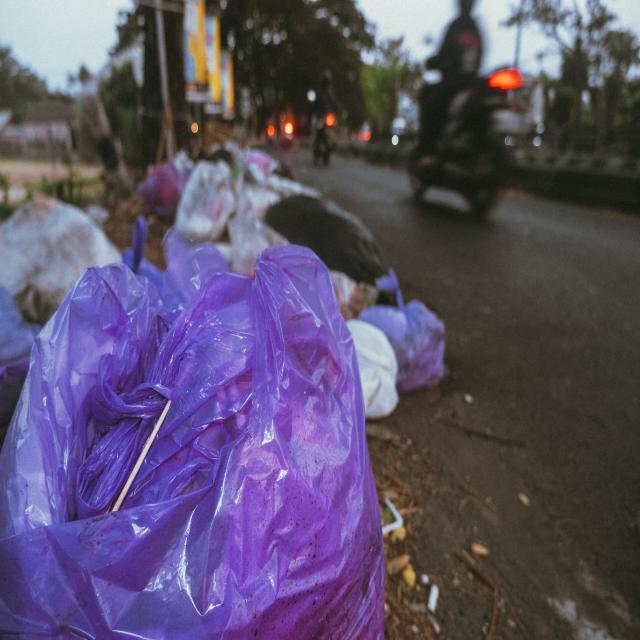trash: (0, 207, 455, 640)
